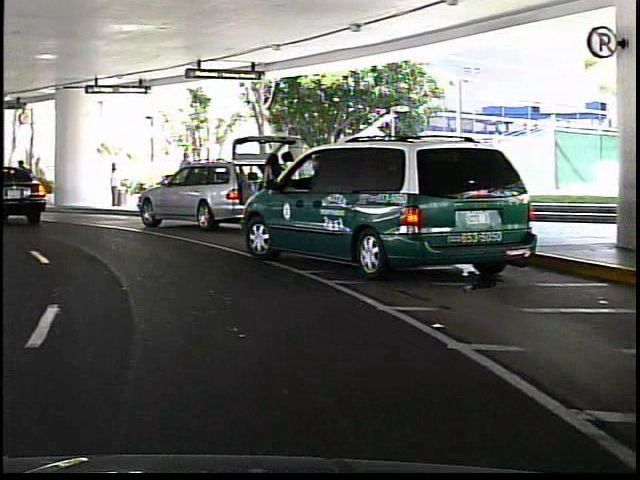person: (250, 149, 279, 227), (174, 149, 194, 205)
